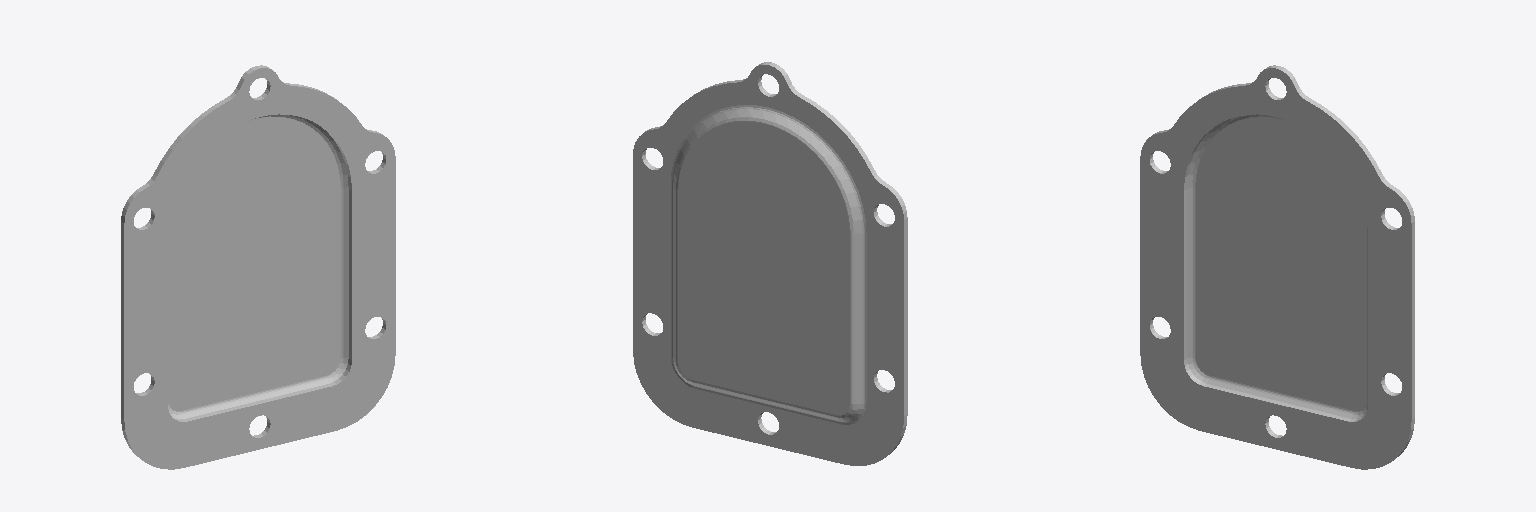
The model's file is 74. Крышка люка.obj.
3 renders of one model, left to right at view 1: azimuth 30°, elevation 25°; view 2: azimuth 150°, elevation 25°; view 3: azimuth 330°, elevation 25°, orthographic.
Visible parts, largest first — view 1: Твердое тело1; view 2: Твердое тело1; view 3: Твердое тело1.
Boxes of the visible parts, <box> form: Твердое тело1: <box>121,65,395,469</box>; Твердое тело1: <box>633,62,907,465</box>; Твердое тело1: <box>1140,65,1414,469</box>.
Size of the model in its own units: 137 by 184 by 7.